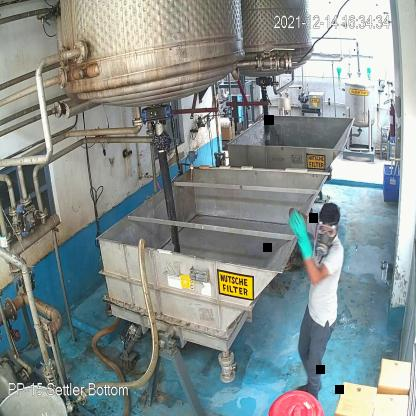goggles: (317, 218, 337, 240)
mask: (313, 228, 337, 259)
